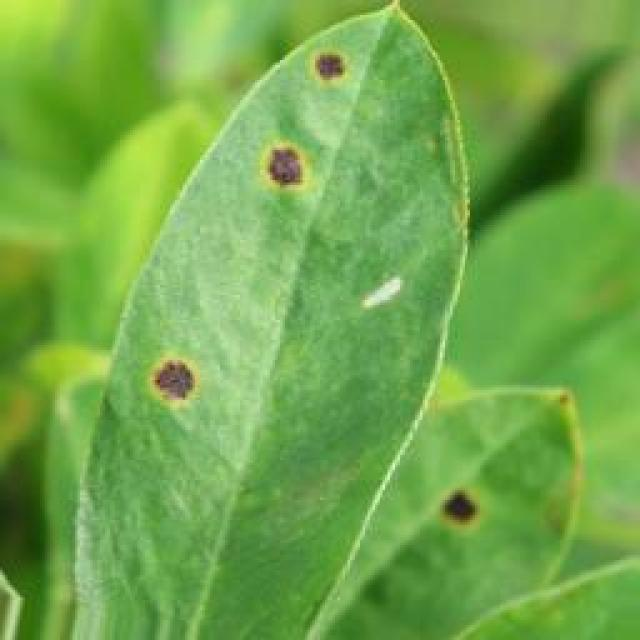Early_leaf_spot: (292, 23, 374, 111), (253, 119, 314, 222), (140, 331, 210, 415), (426, 469, 502, 546), (534, 378, 578, 440)
